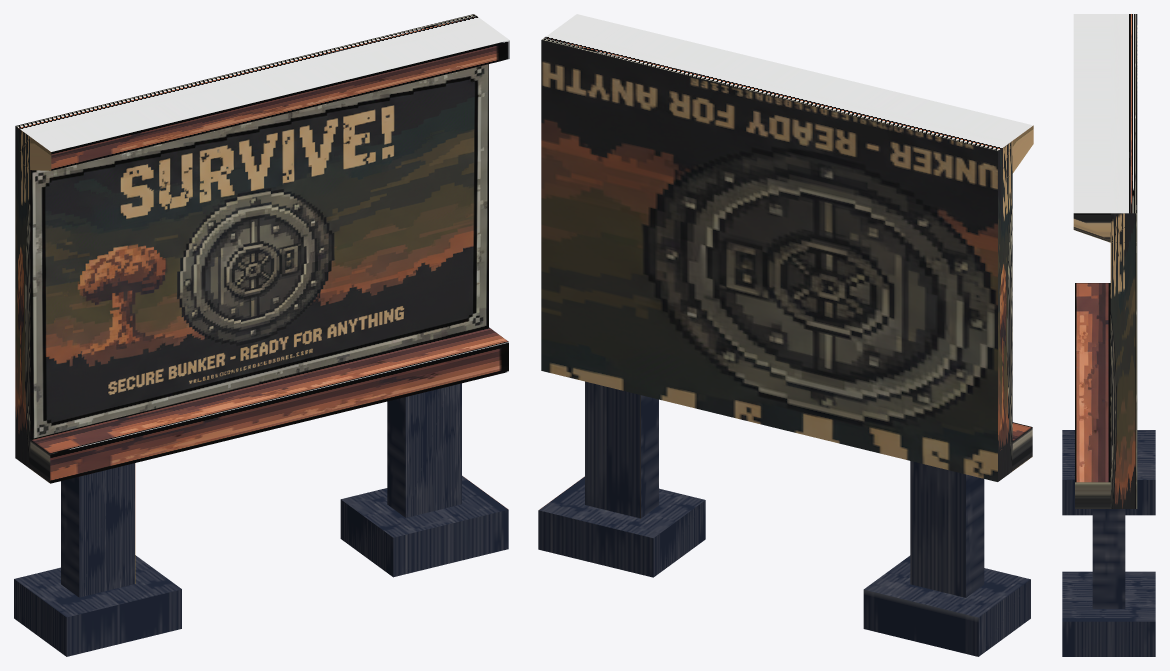
Rendered from Advertising edition.fbx.
3 renders of one model, left to right at view 1: azimuth 30°, elevation 25°; view 2: azimuth 150°, elevation 25°; view 3: azimuth 270°, elevation 25°, orthographic. The views are drawn at different scales.
Parts seen in each view (by area): view 1: pCube65, pCube67, pCube66; view 2: pCube65, pCube66, pCube67; view 3: pCube65, pCube67, pCube66.
Part boxes in pixels (<box>): pCube65: <box>15,14,509,483</box>; pCube67: <box>340,383,508,577</box>; pCube66: <box>14,463,181,656</box>; pCube65: <box>541,14,1033,481</box>; pCube66: <box>863,461,1030,656</box>; pCube67: <box>538,381,705,577</box>; pCube65: <box>1073,14,1137,508</box>; pCube67: <box>1062,509,1155,656</box>; pCube66: <box>1062,430,1155,515</box>.
Size of the model in its own units: 606 by 635 by 120.
